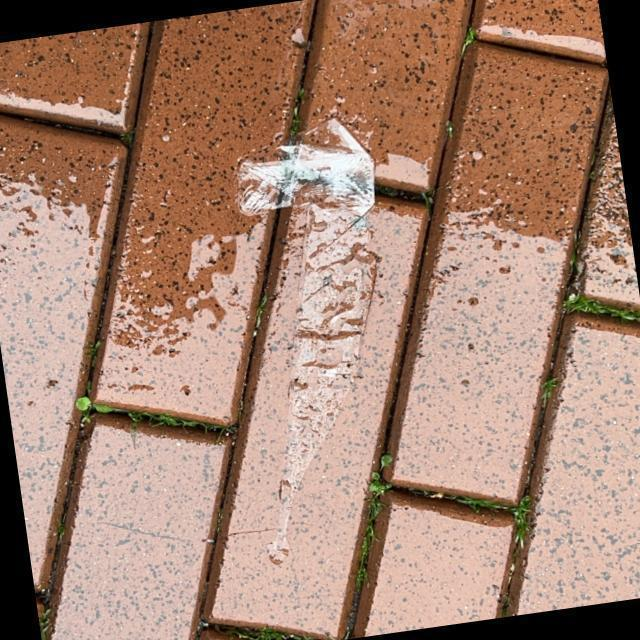Paper: (233, 112, 381, 568)
